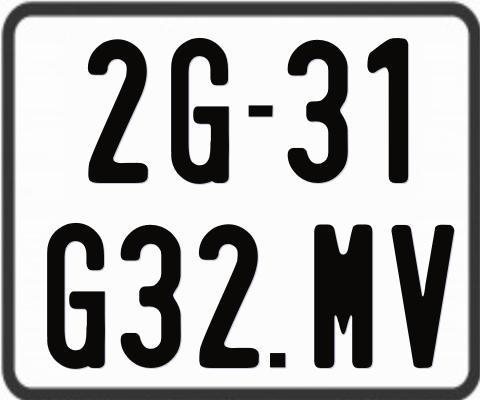1: (365, 37, 411, 184)
2: (85, 37, 150, 185), (198, 223, 261, 368)
3: (121, 225, 186, 374), (287, 37, 351, 186)
G: (169, 35, 233, 184), (47, 221, 108, 370)
M: (314, 222, 378, 370)
V: (391, 222, 458, 370)
